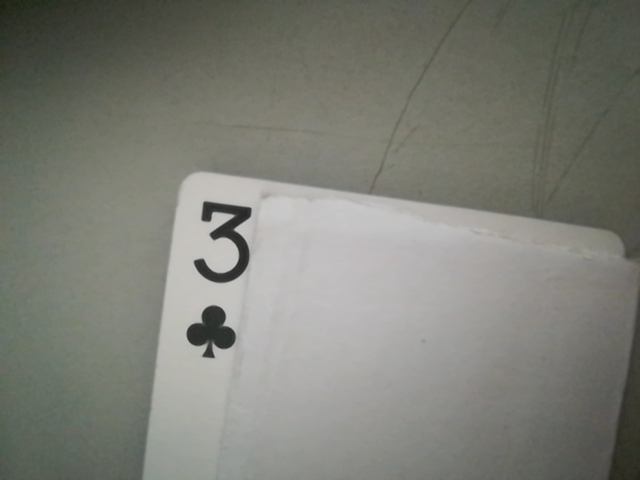mh 3: (177, 191, 264, 362)
